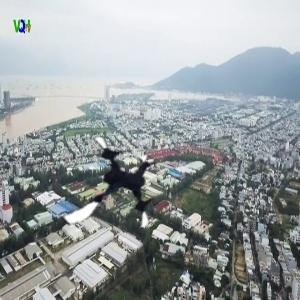drone: (52, 131, 167, 246)
